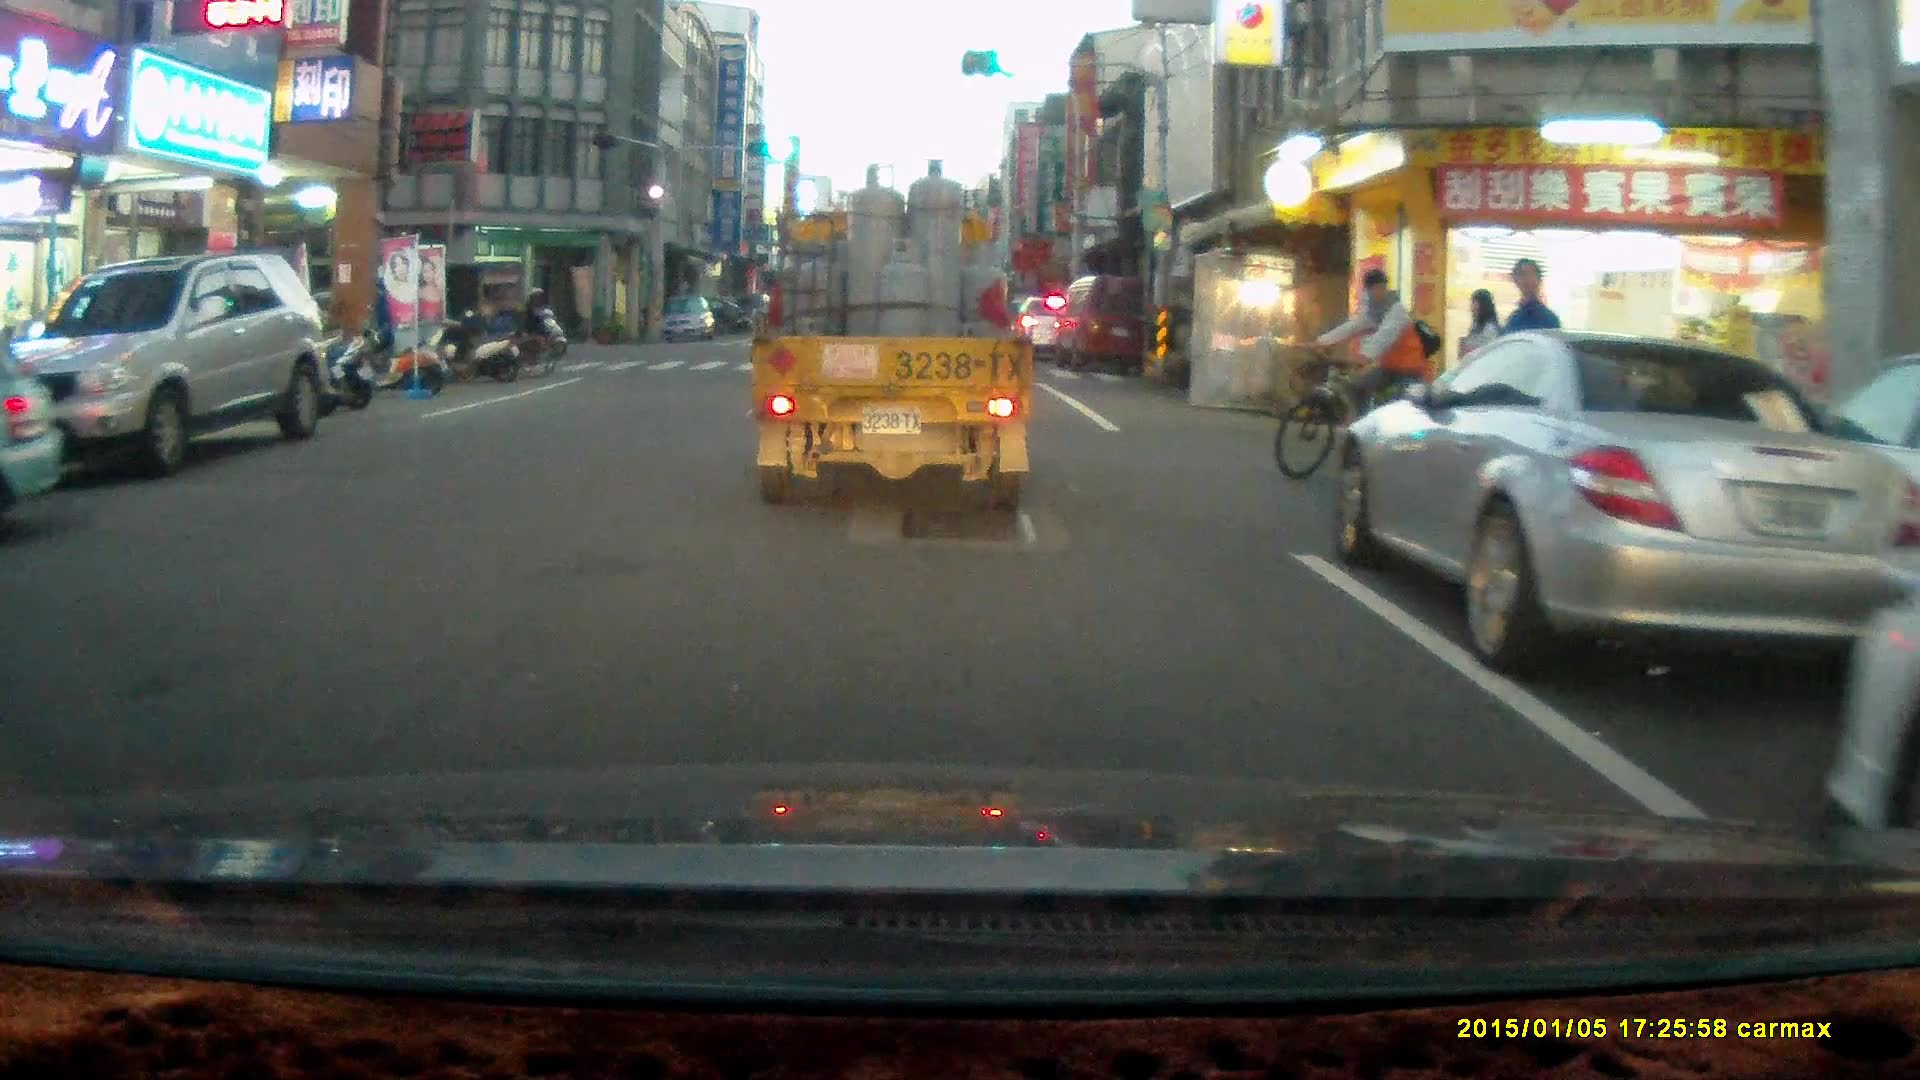pedestrian: (1498, 255, 1562, 483), (1457, 285, 1505, 454)
rider: (1277, 267, 1461, 484), (502, 282, 566, 363)
vehicle: (1334, 332, 1889, 675), (750, 162, 1037, 515), (3, 248, 336, 480), (333, 261, 524, 365), (1057, 274, 1160, 372), (1019, 297, 1088, 361), (656, 292, 721, 349)
